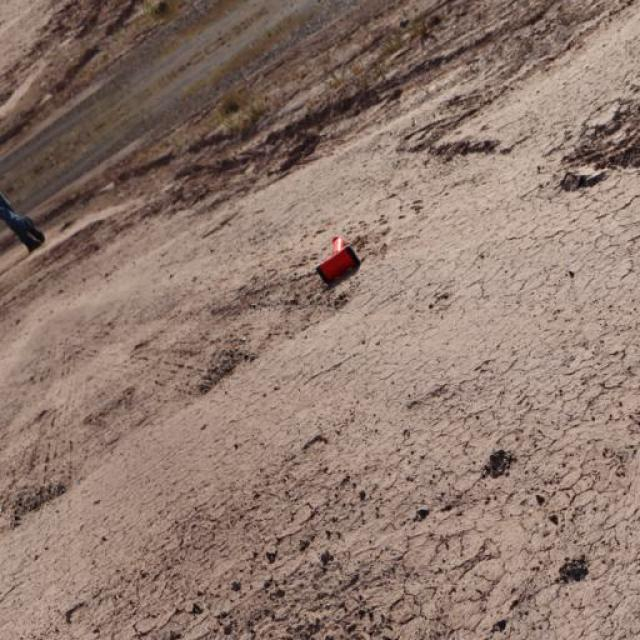mallet: (314, 234, 360, 285)
